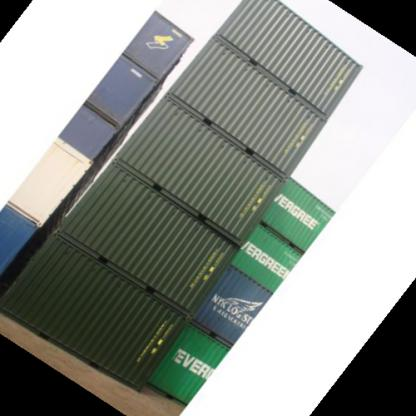Damage: (237, 152, 252, 180), (62, 241, 74, 261), (196, 121, 206, 142)
